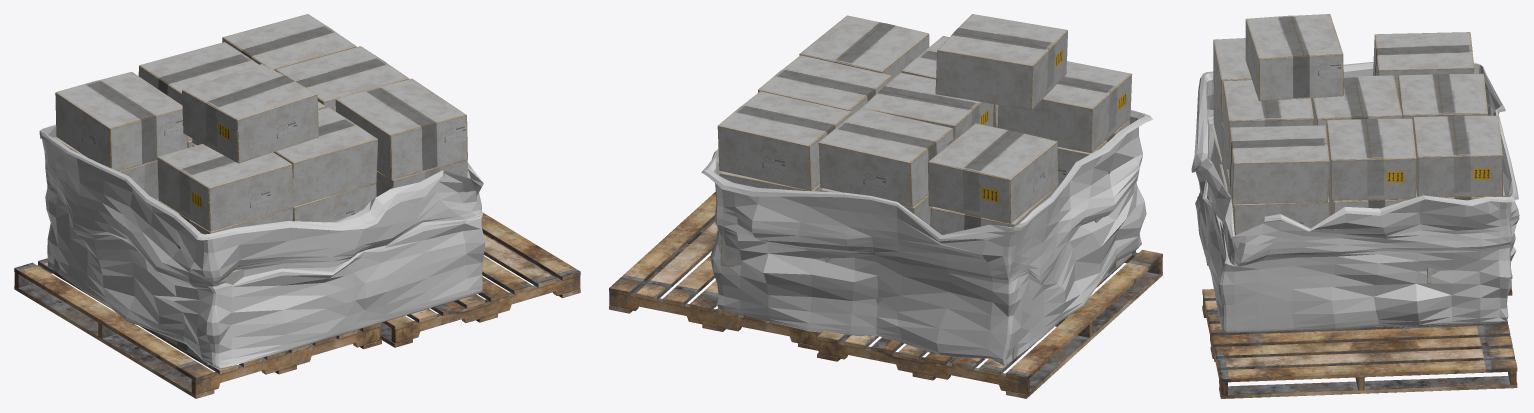
File: box_pallet.dae
The picture shows the model from 3 angles, left to right: view 1: azimuth 30°, elevation 25°; view 2: azimuth 150°, elevation 25°; view 3: azimuth 270°, elevation 25°; orthographic projection. The views are drawn at different scales.
Parts seen in each view (by area): view 1: AM200_029_obj_007, AM200_029_obj_097, AM200_029_obj_040, AM200_029_obj_023, AM200_029_obj_008, AM200_029_obj_019, AM200_029_obj_099, AM200_029_obj_014, AM200_029_obj_039, AM200_029_obj_035, AM200_029_obj_031, AM200_029_obj_012 (+3 smaller); view 2: AM200_029_obj_007, AM200_029_obj_097, AM200_029_obj_040, AM200_029_obj_023, AM200_029_obj_099, AM200_029_obj_031, AM200_029_obj_039, AM200_029_obj_008, AM200_029_obj_019, AM200_029_obj_035, AM200_029_obj_027, AM200_029_obj_021 (+3 smaller); view 3: AM200_029_obj_007, AM200_029_obj_099, AM200_029_obj_019, AM200_029_obj_040, AM200_029_obj_035, AM200_029_obj_039, AM200_029_obj_023, AM200_029_obj_031, AM200_029_obj_014, AM200_029_obj_027, AM200_029_obj_017, AM200_029_obj_008 (+3 smaller).
Part boxes in pixels (<box>): AM200_029_obj_007: <box>39,124,484,368</box>; AM200_029_obj_097: <box>14,258,381,398</box>; AM200_029_obj_040: <box>182,64,318,163</box>; AM200_029_obj_023: <box>55,72,187,171</box>; AM200_029_obj_008: <box>157,144,293,231</box>; AM200_029_obj_019: <box>335,78,467,179</box>; AM200_029_obj_099: <box>380,212,580,347</box>; AM200_029_obj_014: <box>274,107,377,206</box>; AM200_029_obj_039: <box>222,14,356,70</box>; AM200_029_obj_035: <box>275,46,409,111</box>; AM200_029_obj_031: <box>138,42,258,141</box>; AM200_029_obj_012: <box>292,183,376,222</box>; AM200_029_obj_007: <box>701,110,1152,365</box>; AM200_029_obj_097: <box>817,249,1162,398</box>; AM200_029_obj_040: <box>935,14,1067,110</box>; AM200_029_obj_023: <box>928,123,1058,223</box>; AM200_029_obj_099: <box>609,191,820,350</box>; AM200_029_obj_031: <box>818,108,953,207</box>; AM200_029_obj_039: <box>717,91,852,190</box>; AM200_029_obj_008: <box>997,61,1132,152</box>; AM200_029_obj_019: <box>799,15,929,78</box>; AM200_029_obj_035: <box>758,55,892,114</box>; AM200_029_obj_027: <box>861,72,993,140</box>; AM200_029_obj_021: <box>930,185,1058,234</box>; AM200_029_obj_007: <box>1191,62,1519,332</box>; AM200_029_obj_099: <box>1202,289,1517,398</box>; AM200_029_obj_019: <box>1228,125,1329,204</box>; AM200_029_obj_040: <box>1245,14,1343,100</box>; AM200_029_obj_035: <box>1326,118,1416,200</box>; AM200_029_obj_039: <box>1413,115,1502,197</box>; AM200_029_obj_023: <box>1373,32,1474,95</box>; AM200_029_obj_031: <box>1398,73,1487,127</box>; AM200_029_obj_014: <box>1222,80,1313,160</box>; AM200_029_obj_027: <box>1311,75,1402,130</box>; AM200_029_obj_017: <box>1226,169,1329,235</box>; AM200_029_obj_008: <box>1213,38,1251,121</box>.
Bounding box in the file's own units: 205 × 147 × 113.
